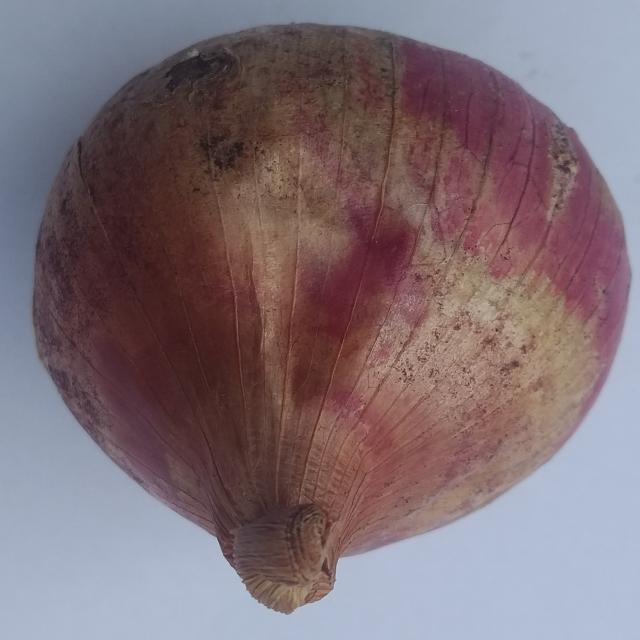onion: (31, 22, 634, 617)
